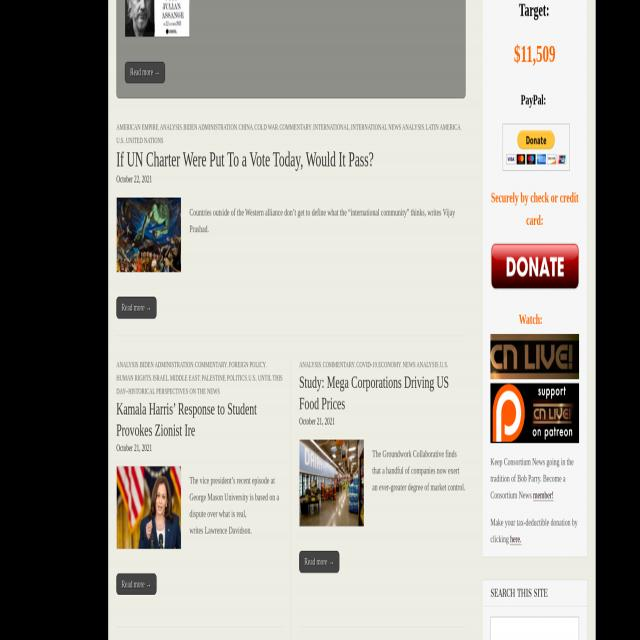button: (300, 439, 364, 527), (116, 466, 182, 549), (491, 383, 579, 443), (116, 197, 182, 273), (491, 334, 579, 380), (491, 246, 580, 287), (502, 123, 570, 171), (124, 0, 190, 38), (116, 297, 156, 319), (299, 551, 339, 573), (116, 573, 156, 595), (125, 62, 165, 83)
field: (490, 615, 579, 640)
